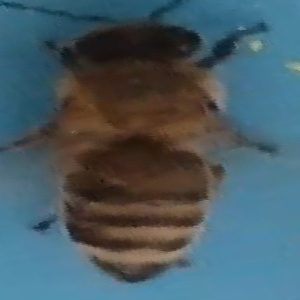bee: (3, 2, 275, 286)
